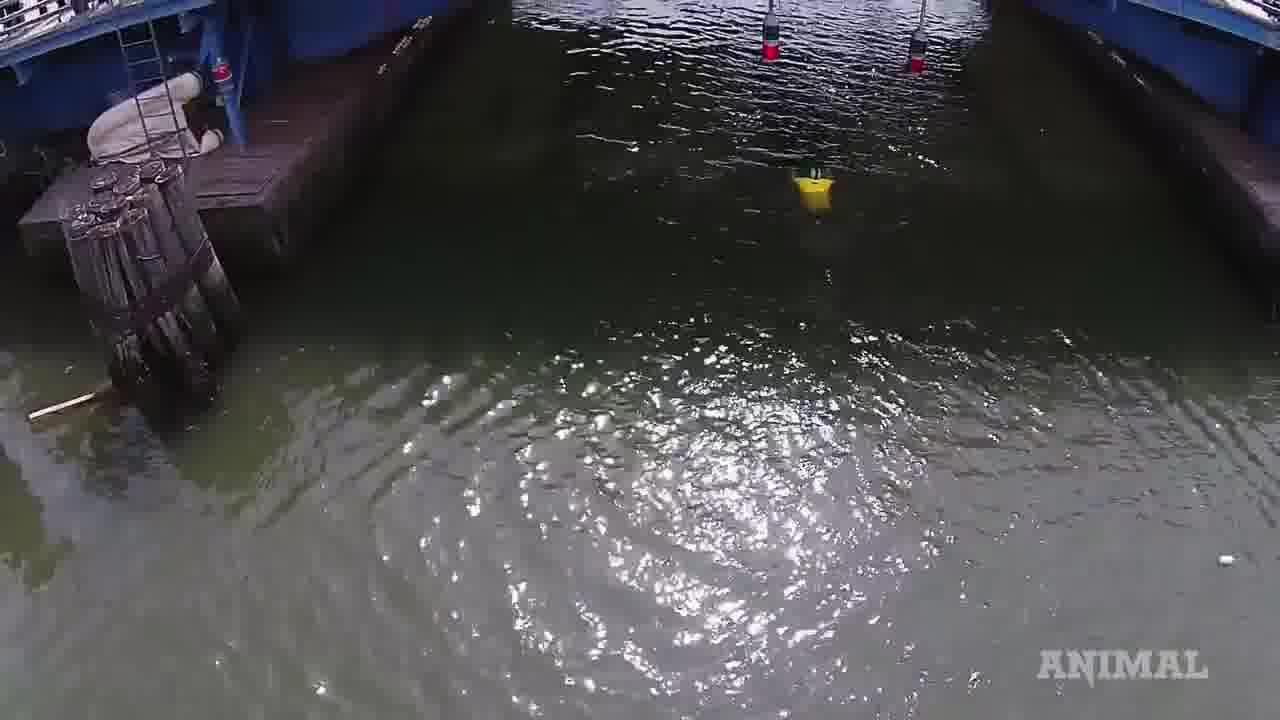swimmer: (774, 154, 848, 206)
